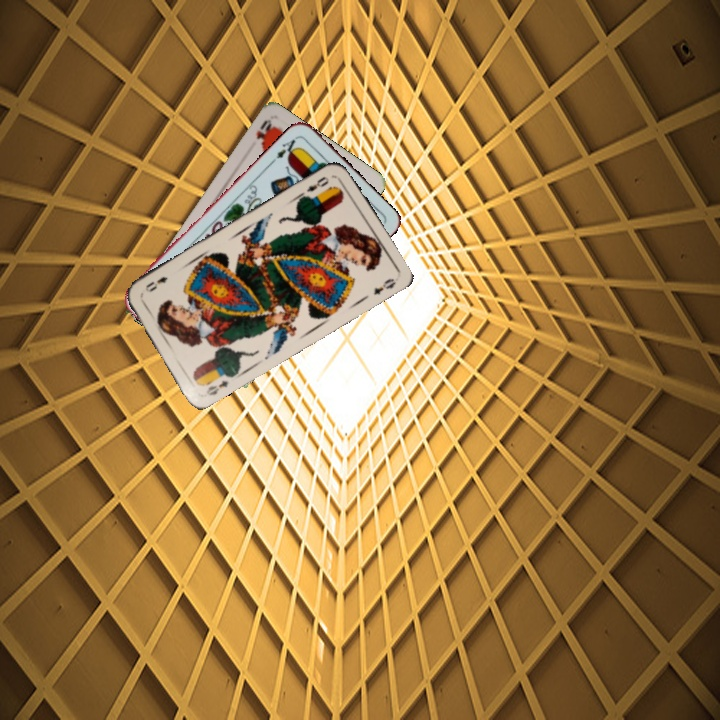EA: (268, 135, 301, 165)
EO: (302, 172, 332, 195), (202, 376, 230, 398)
HO: (252, 115, 276, 147)
